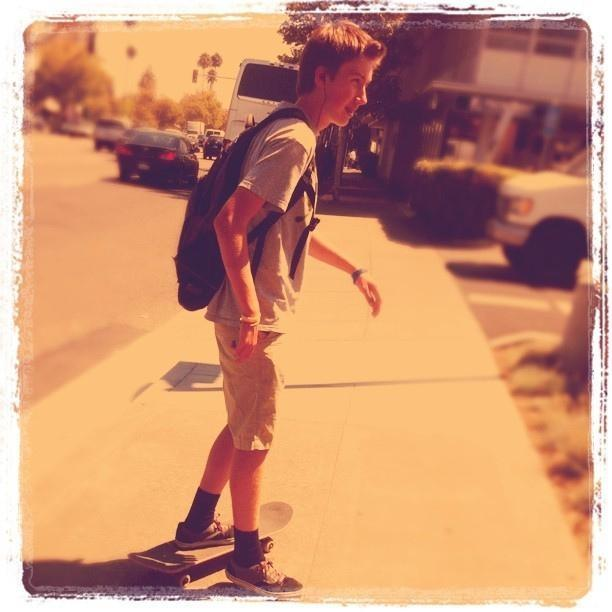car: (482, 152, 592, 286), (118, 128, 199, 186), (93, 114, 129, 152), (202, 135, 224, 159), (198, 135, 211, 148)
